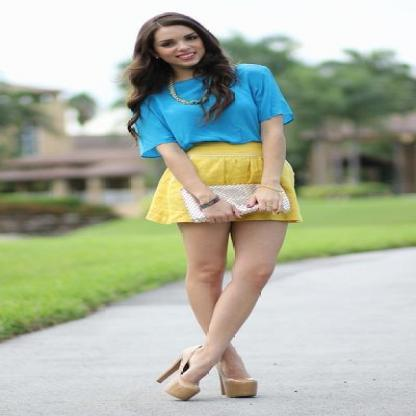bag: (182, 185, 261, 221)
shirt: (133, 64, 292, 167)
shoe: (156, 354, 257, 401)
skirt: (126, 141, 319, 232)
